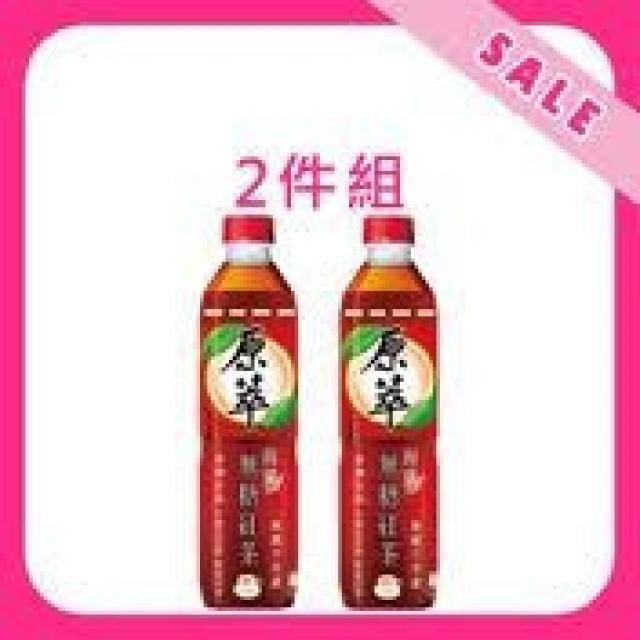YuanTsui_BlackTea: (328, 206, 458, 613), (186, 212, 317, 614)
